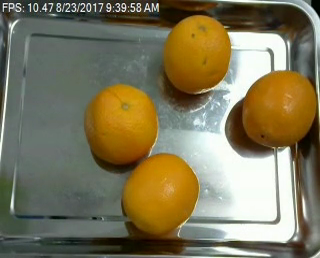Orange: (120, 153, 197, 234), (84, 84, 160, 164), (243, 71, 318, 148), (163, 14, 232, 94)
